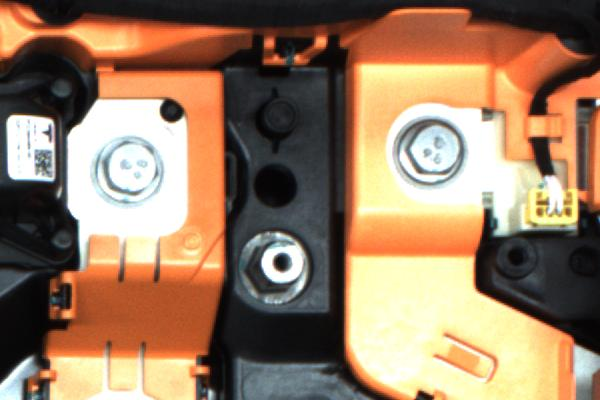nut_b: (382, 110, 473, 191), (92, 134, 175, 208)
